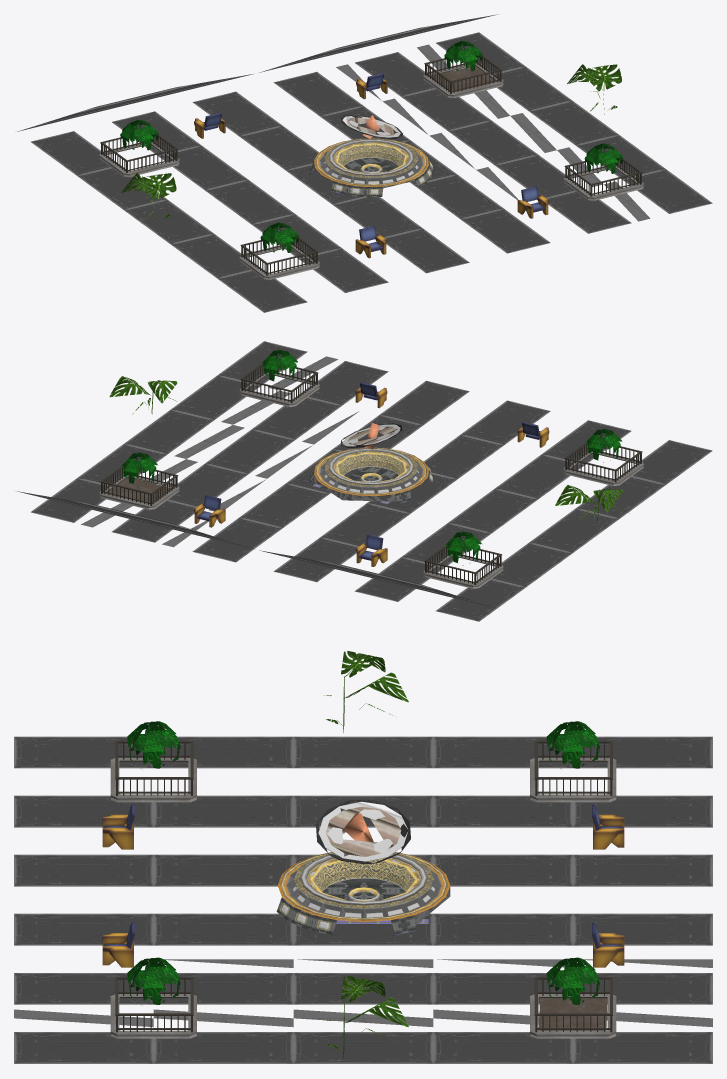
Rendered from sc-garden-lod1.glb.
The picture shows the model from 3 angles, top to bottom: view 1: azimuth 30°, elevation 25°; view 2: azimuth 150°, elevation 25°; view 3: azimuth 270°, elevation 25°; orthographic projection. The views are drawn at different scales.
Parts seen in each view (by area): view 1: sc-garden; view 2: sc-garden; view 3: sc-garden.
Part boxes in pixels (x1,y1,x2,y2): sc-garden: (17,14,712,312); sc-garden: (17,341,712,621); sc-garden: (14,651,712,1063).
Bounding box in the file's own units: 24.45 × 2.74 × 20.
9 materials, 9 textured.
